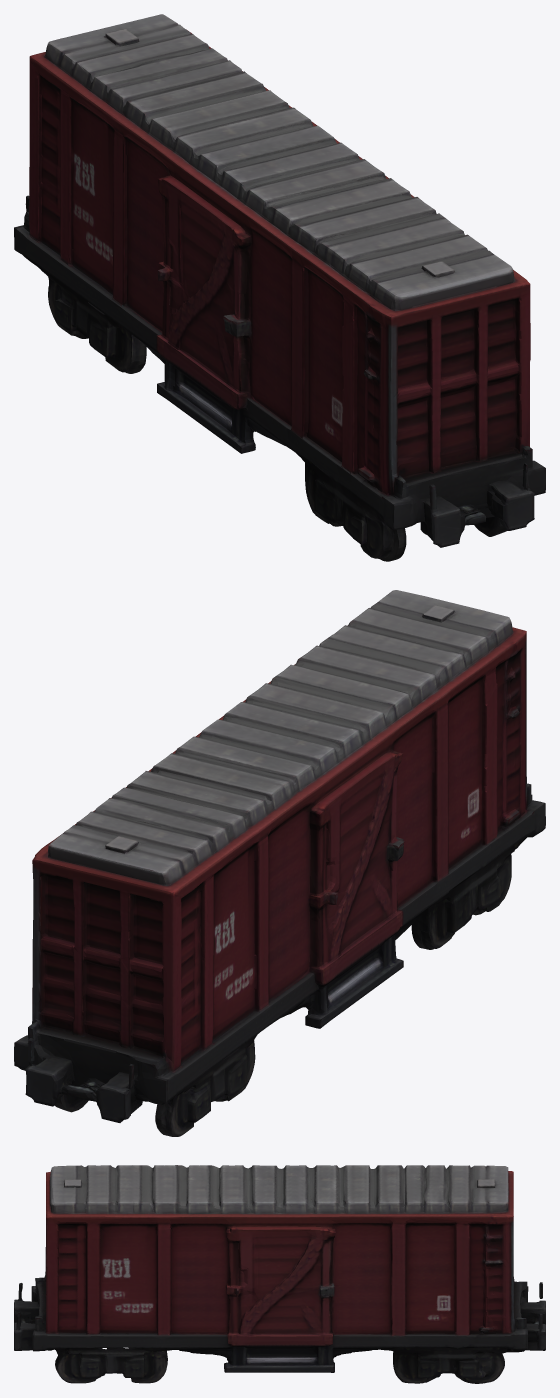
File: freight_car1.glb
The picture shows the model from 3 angles, top to bottom: view 1: azimuth 30°, elevation 25°; view 2: azimuth 150°, elevation 25°; view 3: azimuth 270°, elevation 25°; orthographic projection. The views are drawn at different scales.
Visible parts, largest first — view 1: geometry_0.004; view 2: geometry_0.004; view 3: geometry_0.004.
Part boxes in pixels (x1=…): geometry_0.004: x1=14, y1=14, x2=545, y2=561; geometry_0.004: x1=14, y1=590, x2=545, y2=1136; geometry_0.004: x1=14, y1=1165, x2=545, y2=1383.
Bounding box in the file's own units: 0.2516 × 0.3828 × 1.
1 material, 1 textured.
